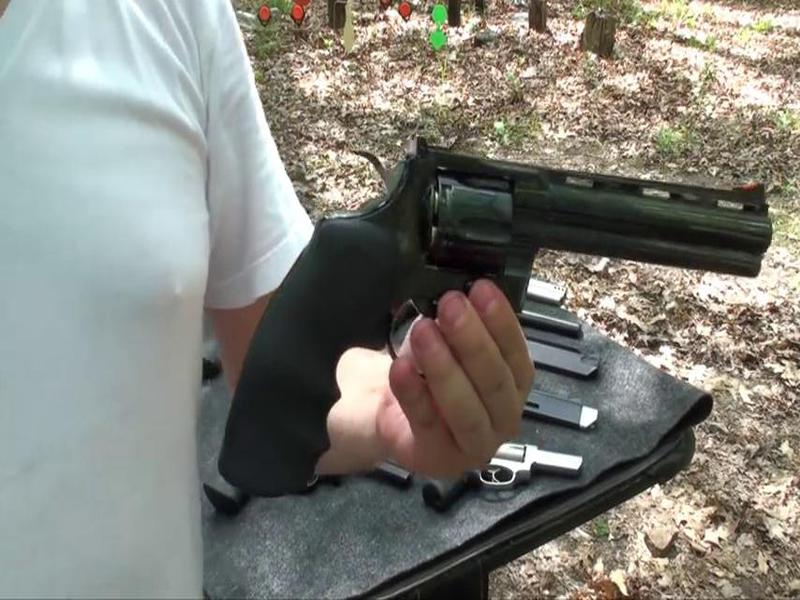Revolver: (235, 124, 779, 514)
